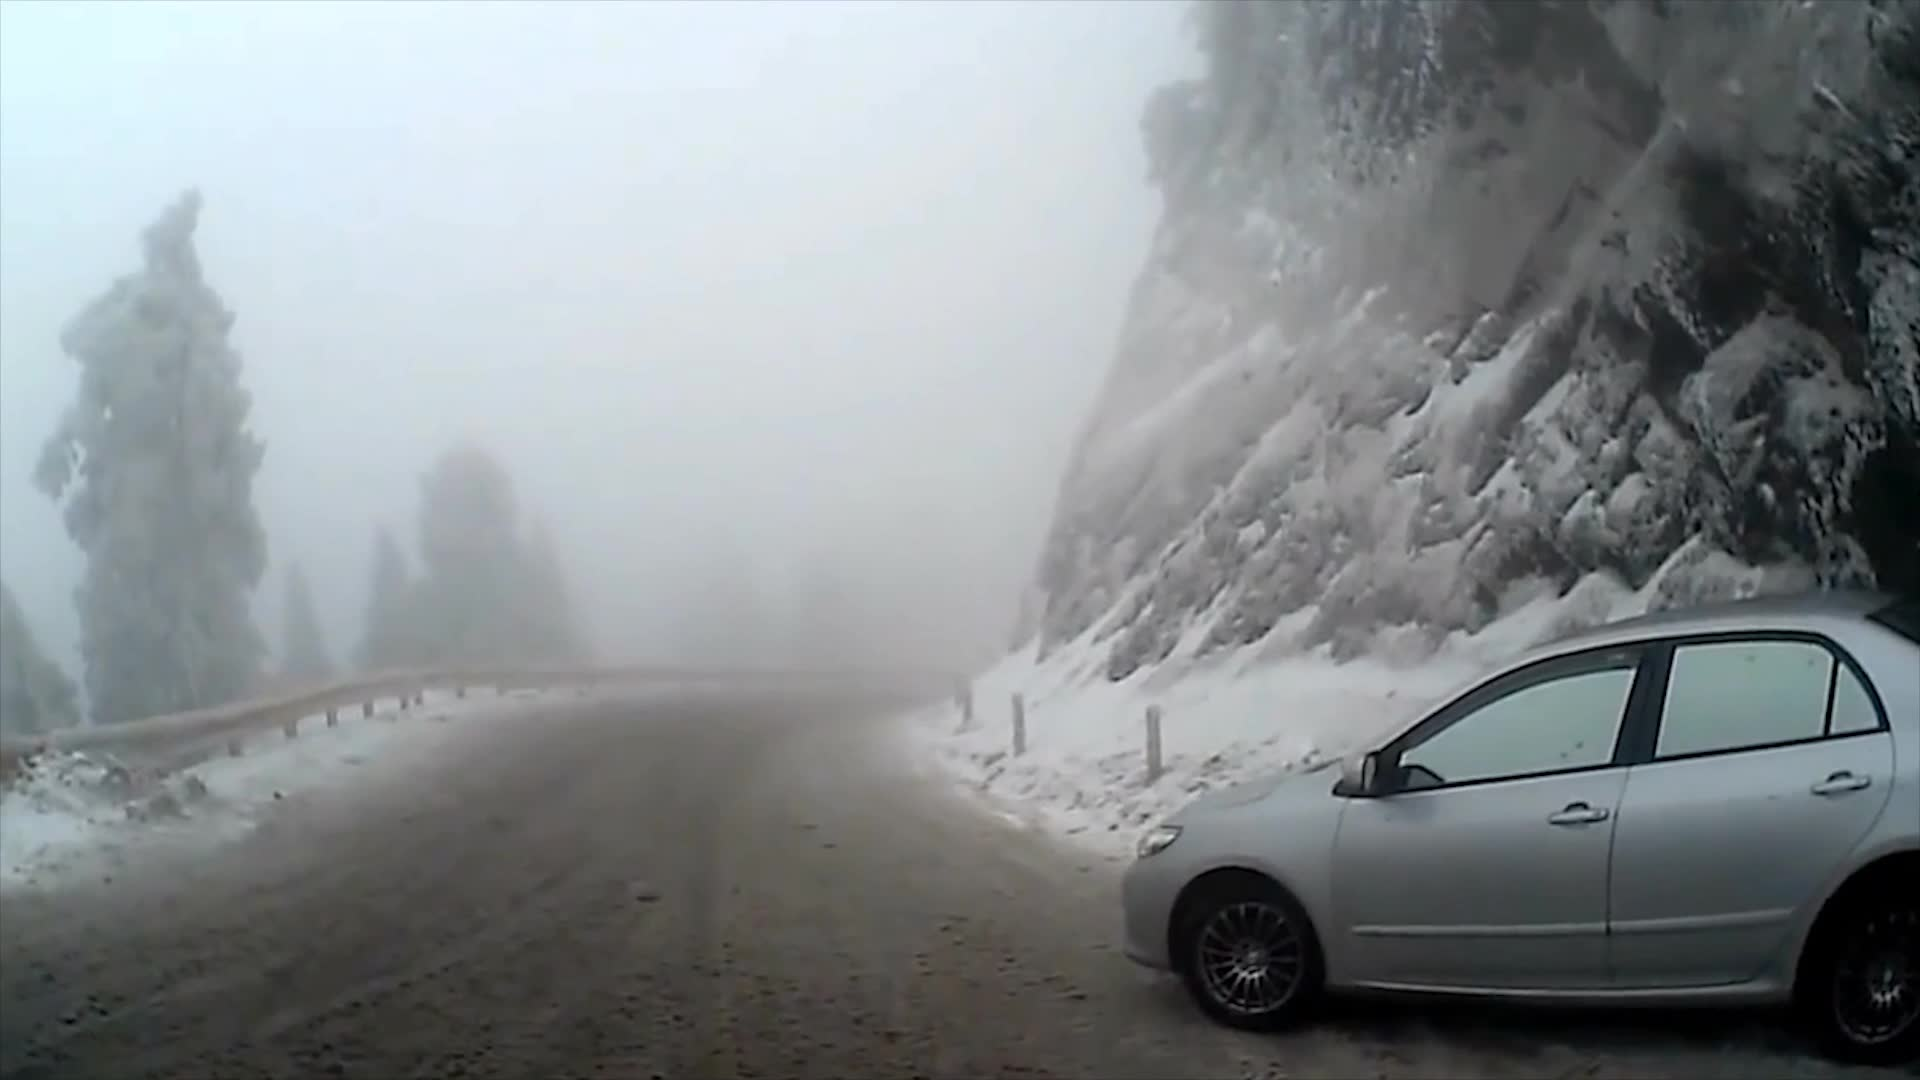vehicle: (1113, 584, 1920, 1068)
